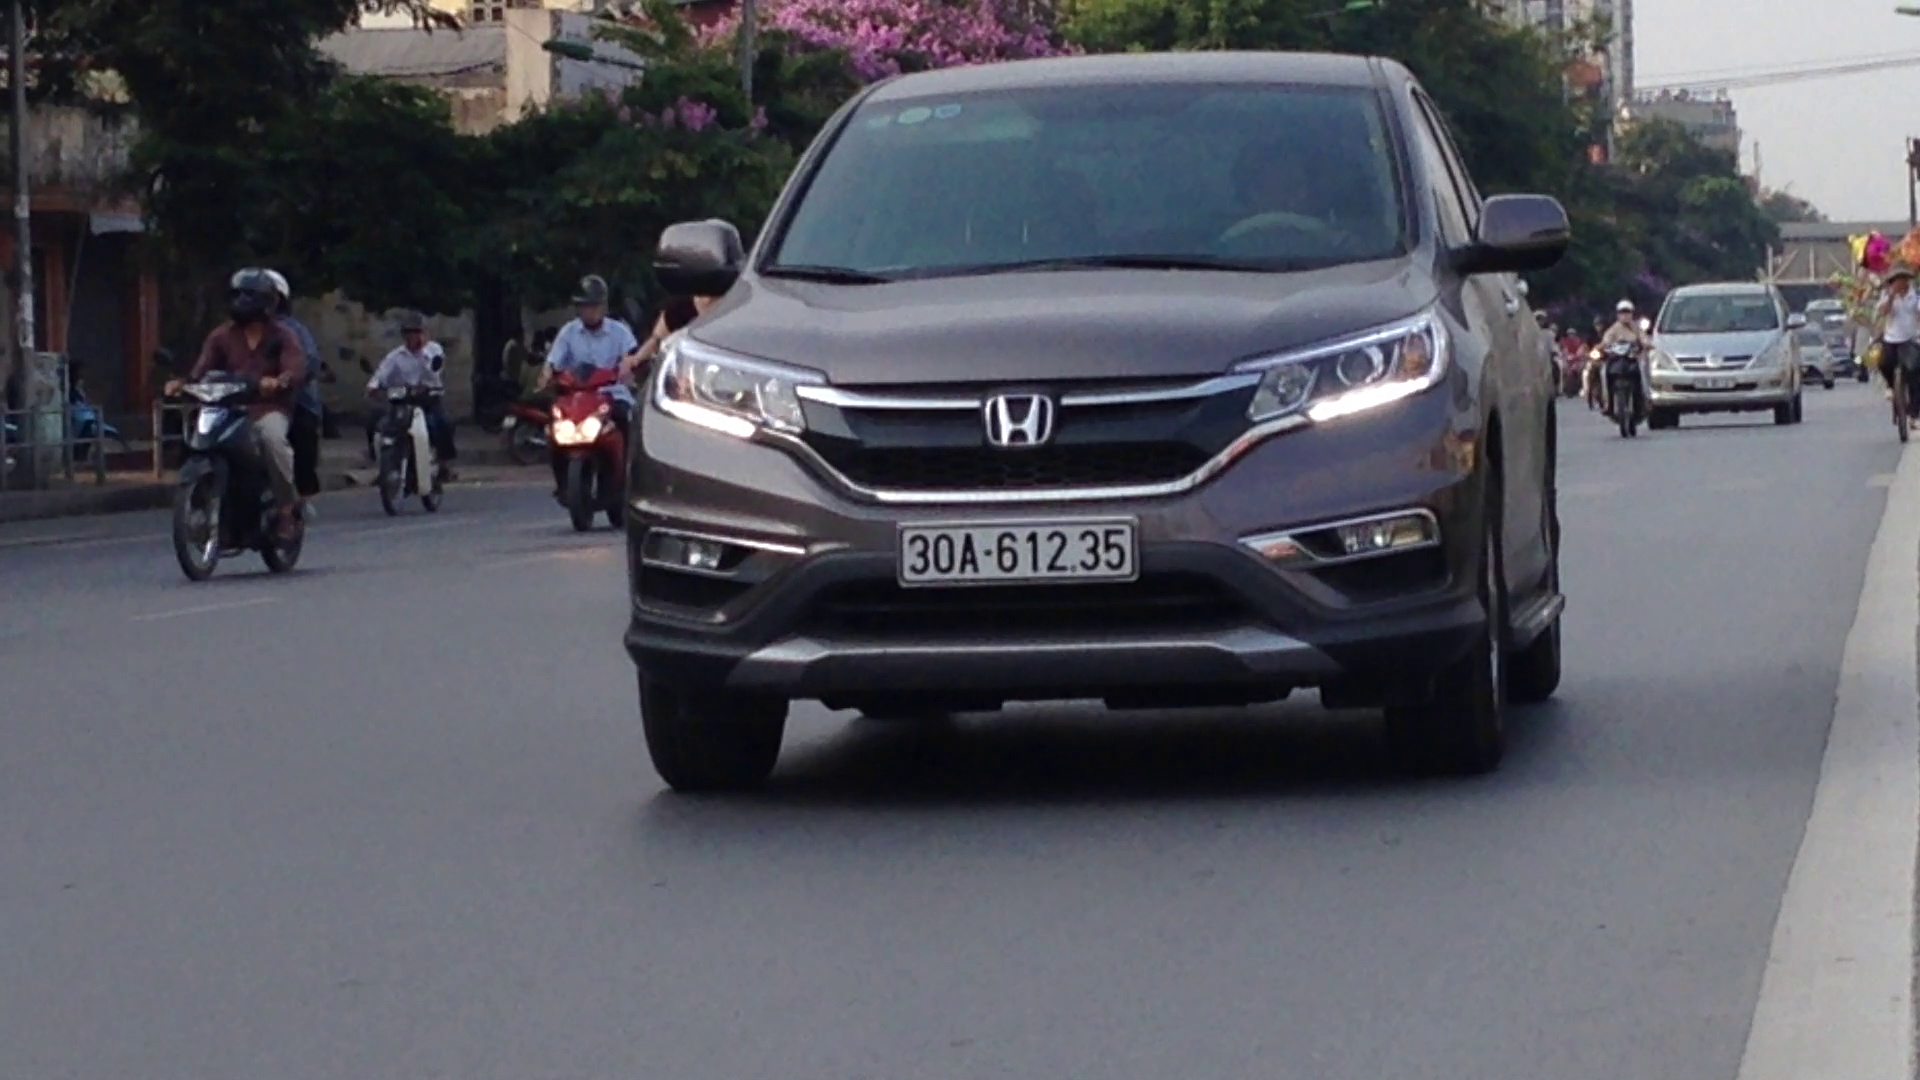vehicle-plate: (893, 510, 1144, 588)
